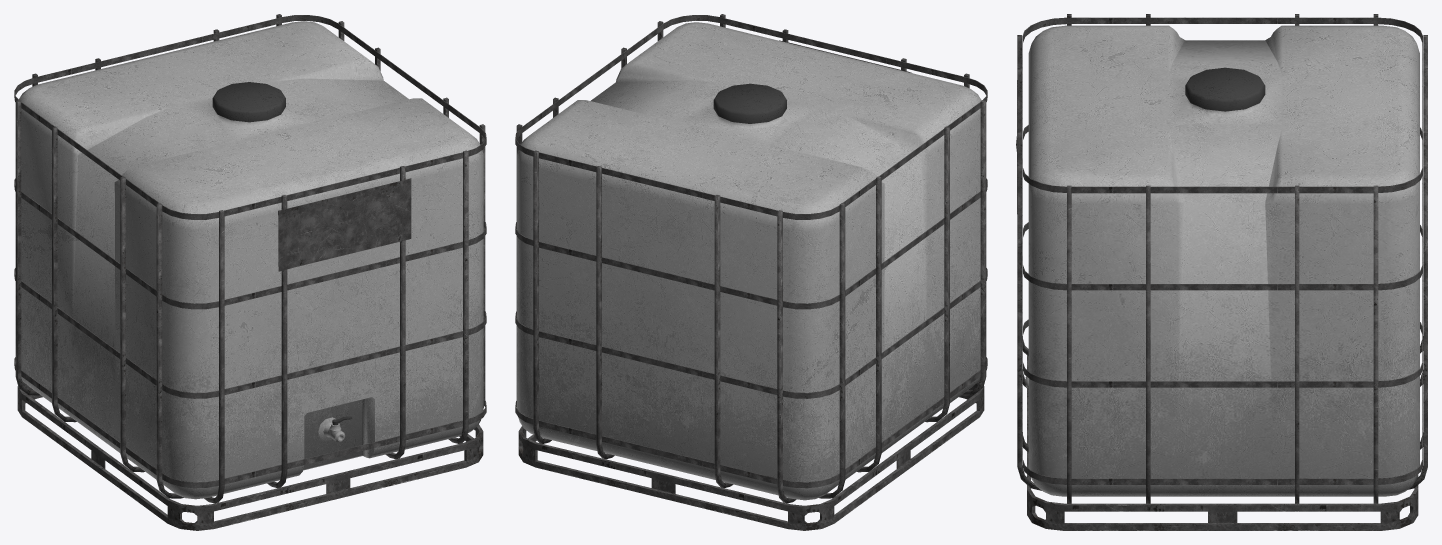
The model's file is apn-unit.glb.
3 renders of one model, left to right at view 1: azimuth 30°, elevation 25°; view 2: azimuth 150°, elevation 25°; view 3: azimuth 270°, elevation 25°, orthographic. The views are drawn at different scales.
Parts seen in each view (by area): view 1: Material2, Material3; view 2: Material2, Material3; view 3: Material2, Material3.
Part boxes in pixels (x1,y1,x2,y2): Material2: (19, 21, 483, 499); Material3: (14, 14, 486, 530); Material2: (517, 22, 981, 500); Material3: (515, 14, 987, 530); Material2: (1025, 25, 1419, 496); Material3: (1016, 14, 1427, 530).
Bounding box in the file's own units: 71.65 × 70.26 × 71.9.
Materials: 3 (2 with a texture image).
